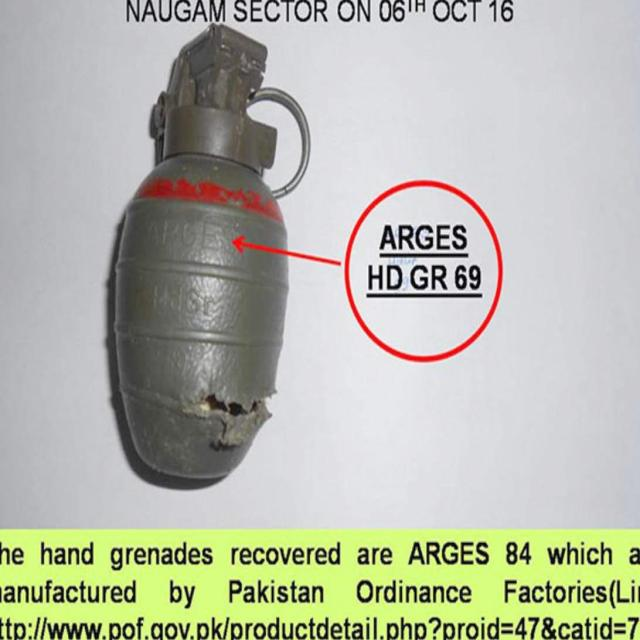grenade: (114, 27, 314, 481)
